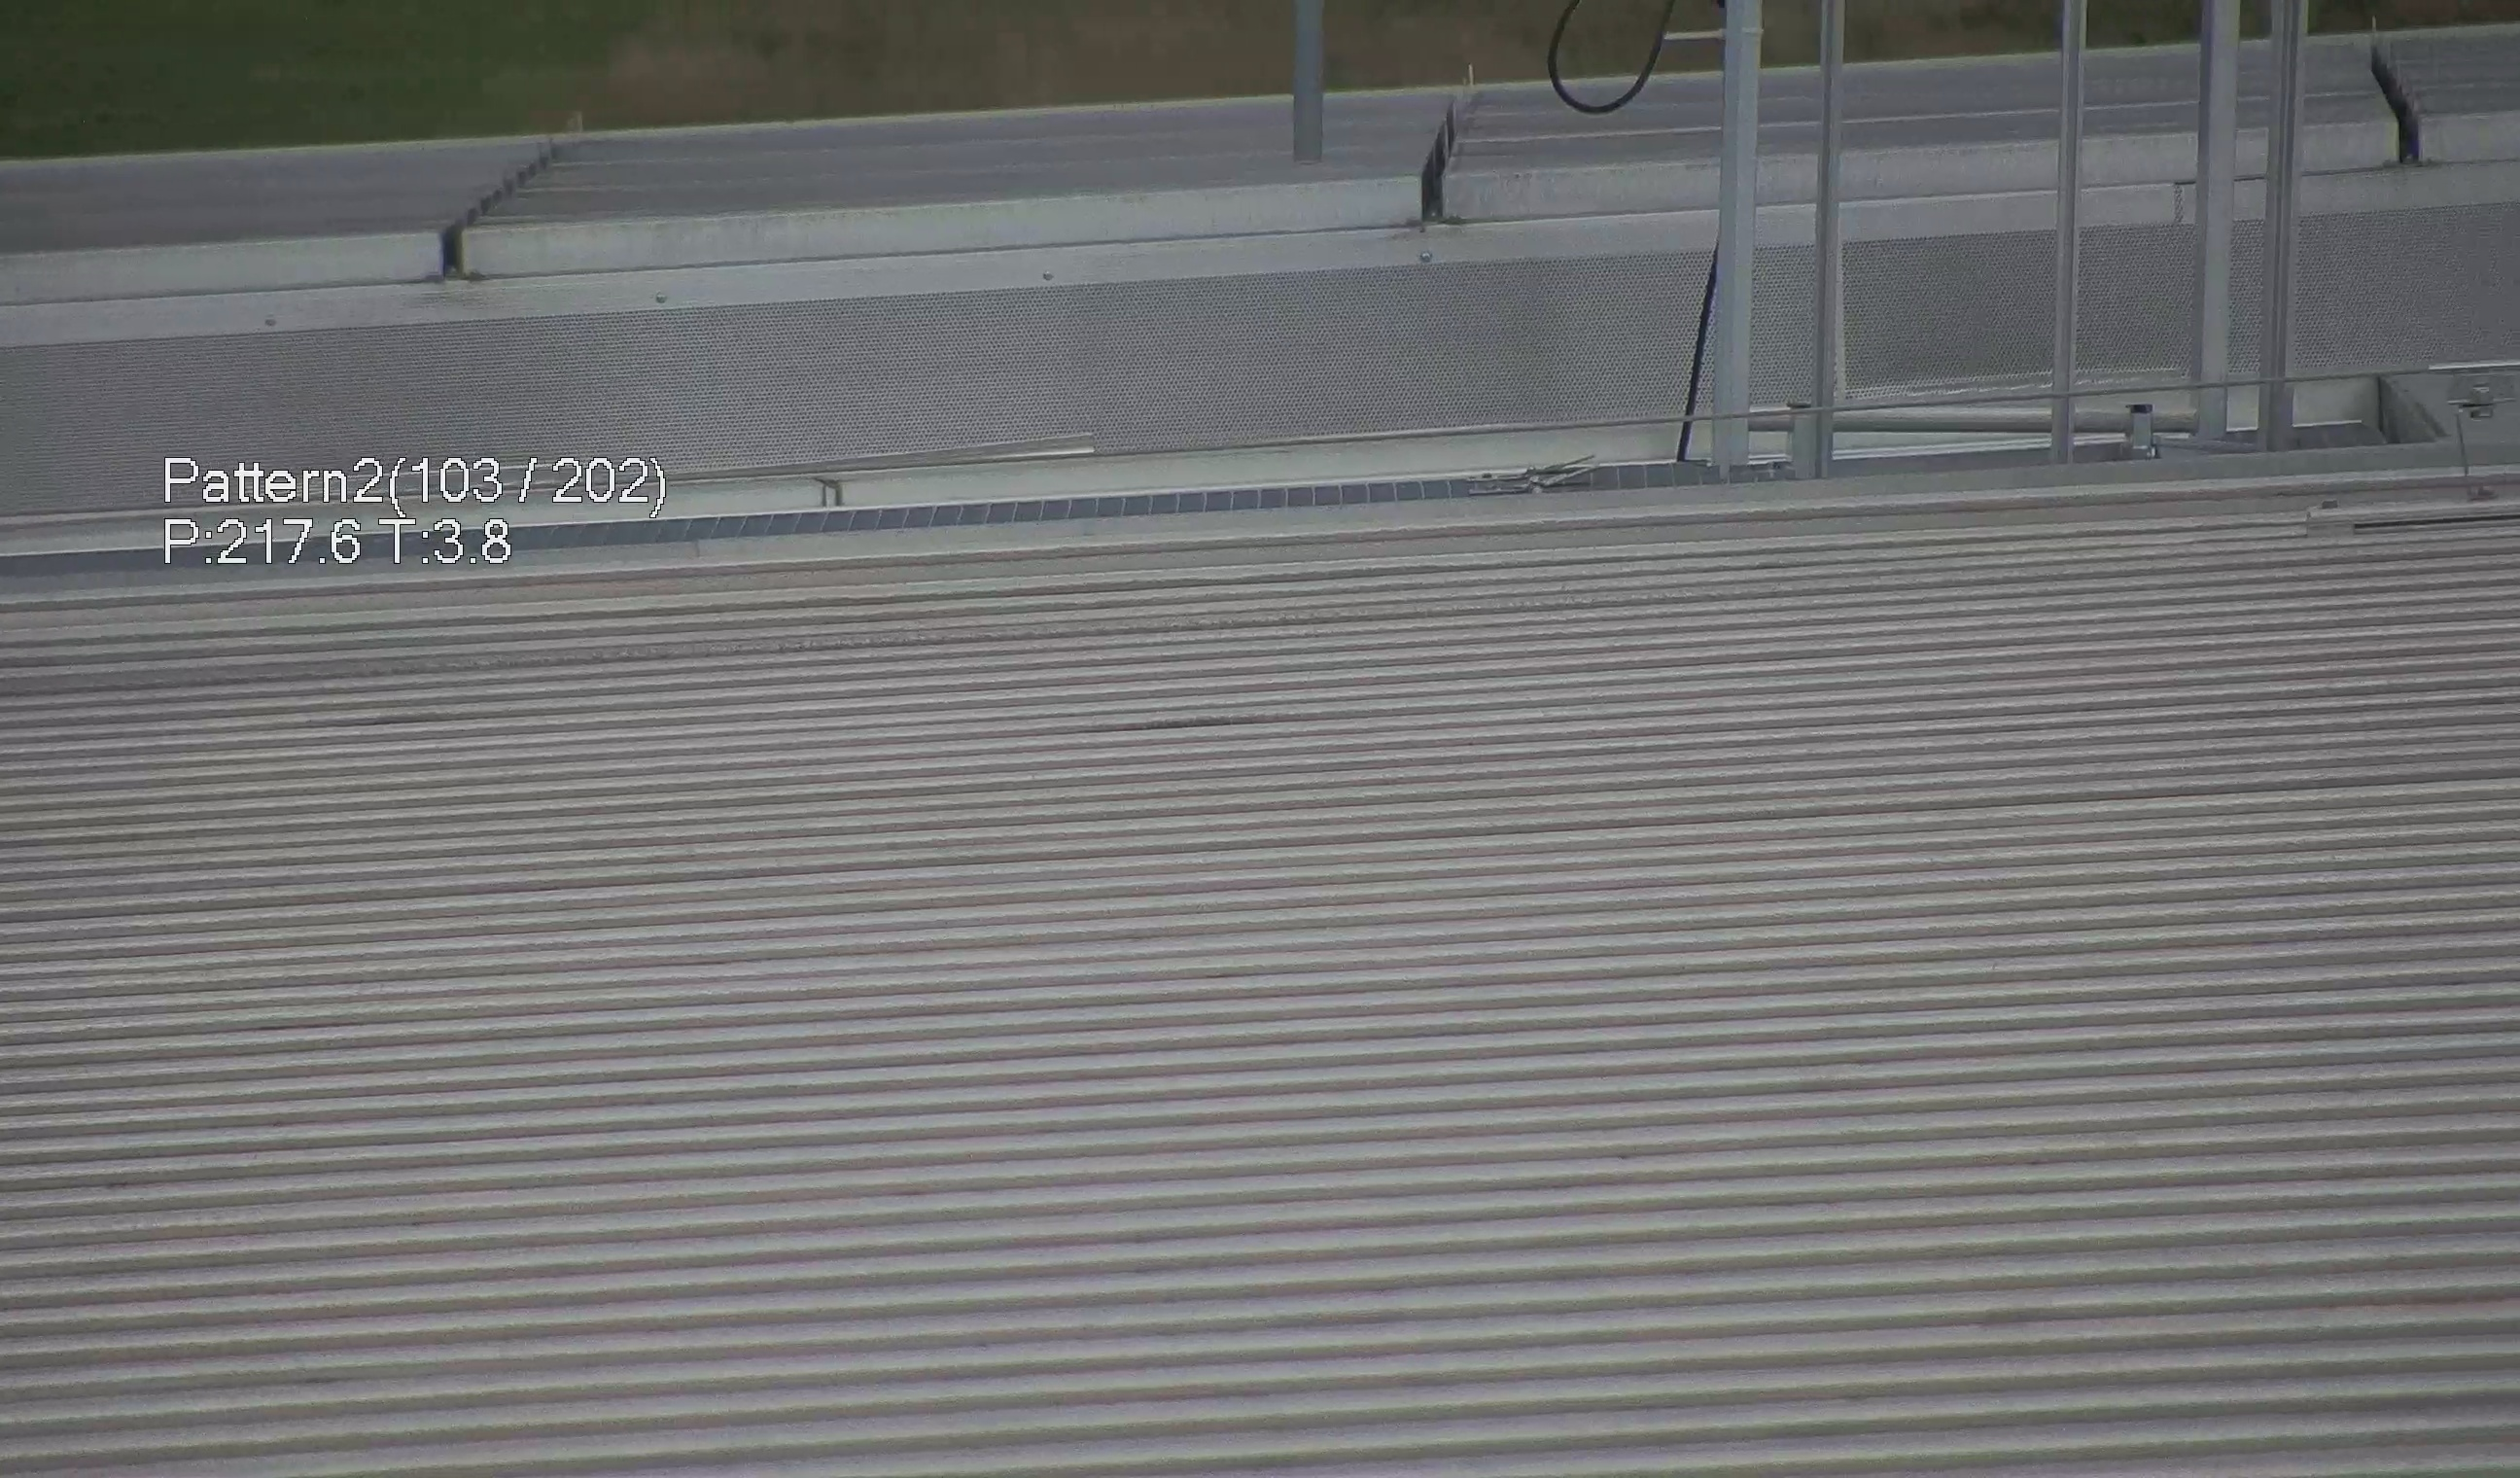Other: (2349, 21, 2444, 176)
